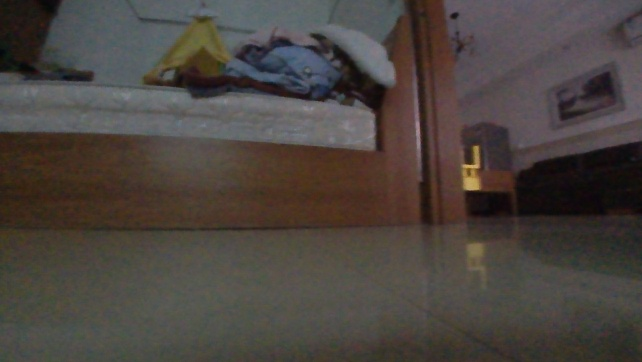bed1: (0, 13, 425, 234)
refrigerator: (461, 120, 513, 217)
sofa: (514, 136, 641, 214)
